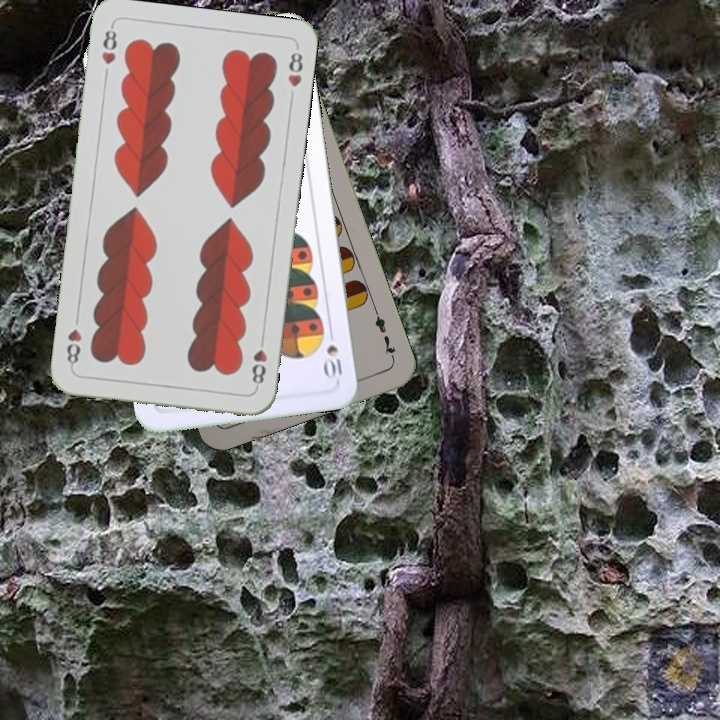E7: (370, 305, 398, 363)
H8: (248, 332, 270, 391), (97, 22, 120, 67)
S10: (321, 341, 345, 382)
